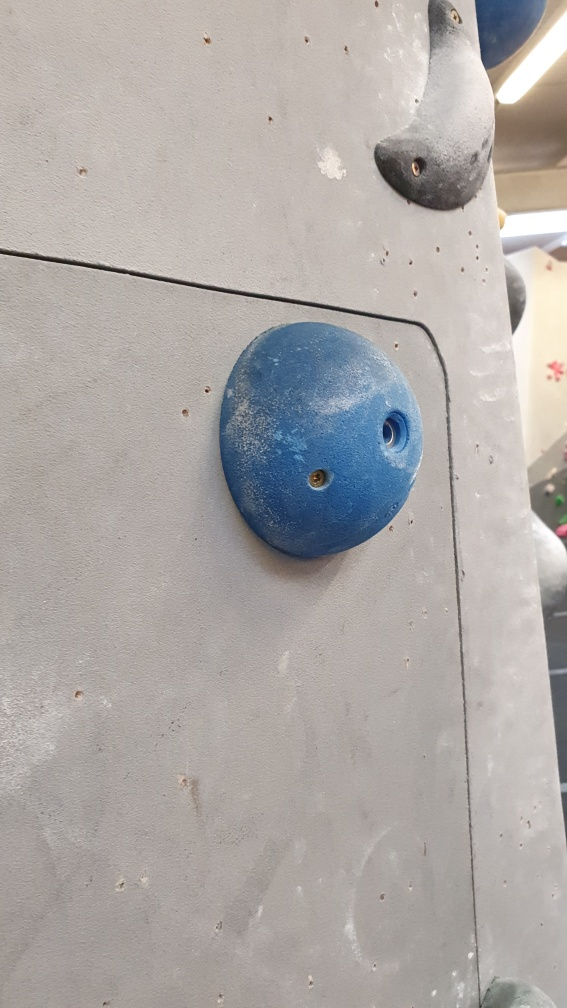Sloper: (214, 314, 427, 572)
